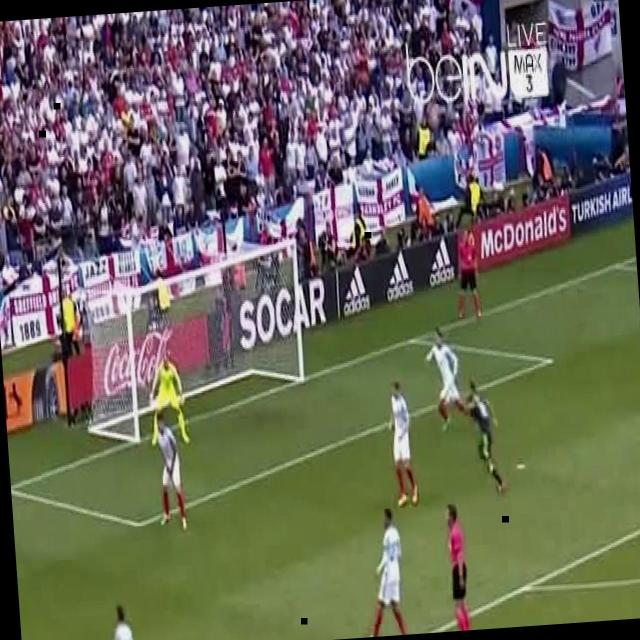player-white: (354, 508, 408, 638), (462, 378, 504, 499), (426, 326, 472, 432), (152, 409, 188, 533), (385, 378, 418, 504), (146, 353, 190, 446), (442, 504, 472, 632), (453, 231, 482, 317), (103, 604, 145, 640)
